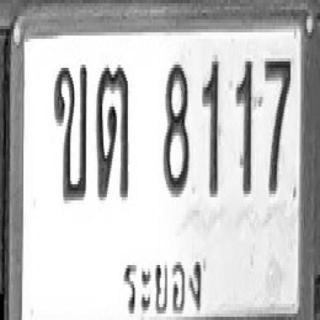A02: (53, 63, 88, 202)
A21: (96, 63, 129, 199)
N01: (202, 56, 219, 196), (235, 58, 252, 194)
N07: (264, 57, 291, 192)
N08: (163, 62, 189, 194)
P53: (114, 249, 207, 320)
